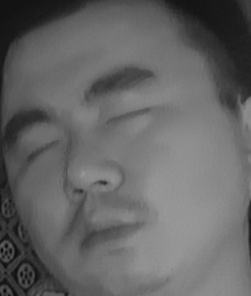blink: (100, 99, 155, 132), (20, 130, 65, 163)
mouth: (63, 200, 148, 257)
